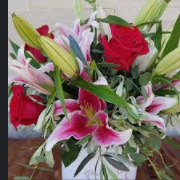RedRose: (100, 21, 155, 75), (8, 80, 49, 129)
